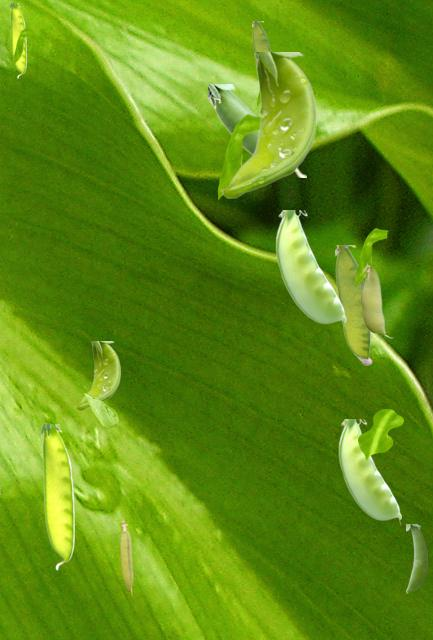pea: (220, 52, 315, 197), (208, 84, 305, 176), (275, 210, 345, 329), (338, 419, 400, 525), (41, 424, 73, 569), (335, 245, 371, 364), (75, 341, 119, 409), (360, 263, 392, 337), (406, 524, 426, 592), (10, 3, 25, 77), (120, 520, 132, 594), (252, 21, 271, 65)
